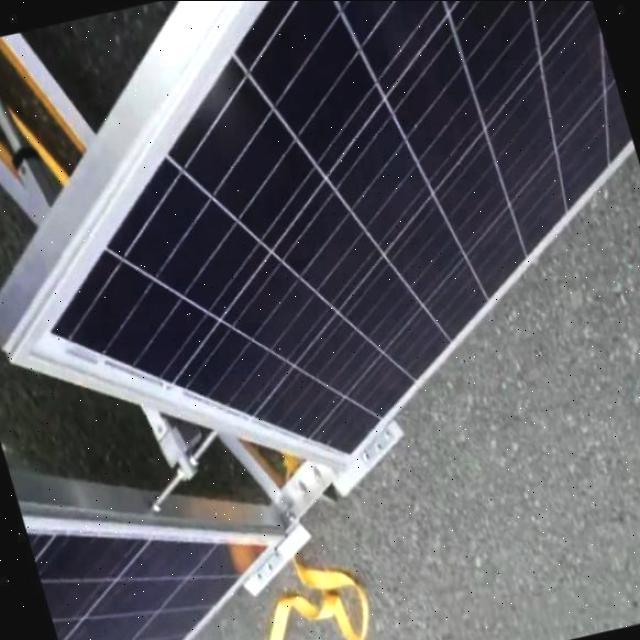Normal Solar Panel: (0, 0, 640, 510), (18, 477, 300, 640)
